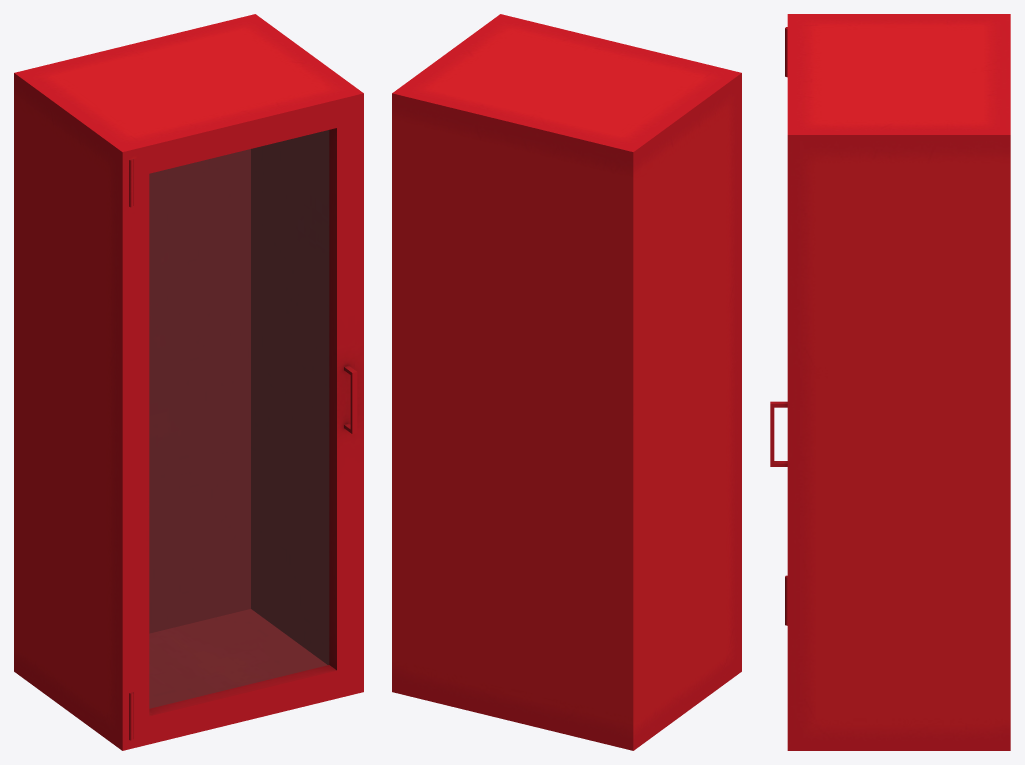
The model's file is Caja extintor.FBX.
The picture shows the model from 3 angles, left to right: view 1: azimuth 30°, elevation 25°; view 2: azimuth 150°, elevation 25°; view 3: azimuth 270°, elevation 25°; orthographic projection. The views are drawn at different scales.
Parts seen in each view (by area): view 1: Caja_Extintor, Puerta_Caja, Manija; view 2: Caja_Extintor; view 3: Caja_Extintor, Manija.
Part boxes in pixels (box(x1,y1,x2,y2)): Caja_Extintor: box(14, 14, 363, 750); Puerta_Caja: box(131, 105, 354, 738); Manija: box(344, 365, 357, 434); Caja_Extintor: box(392, 14, 741, 750); Caja_Extintor: box(787, 14, 1010, 750); Manija: box(770, 401, 787, 466).
Size of the model in its own units: 270 by 640 by 226.
Materials: 2 (1 with a texture image).
